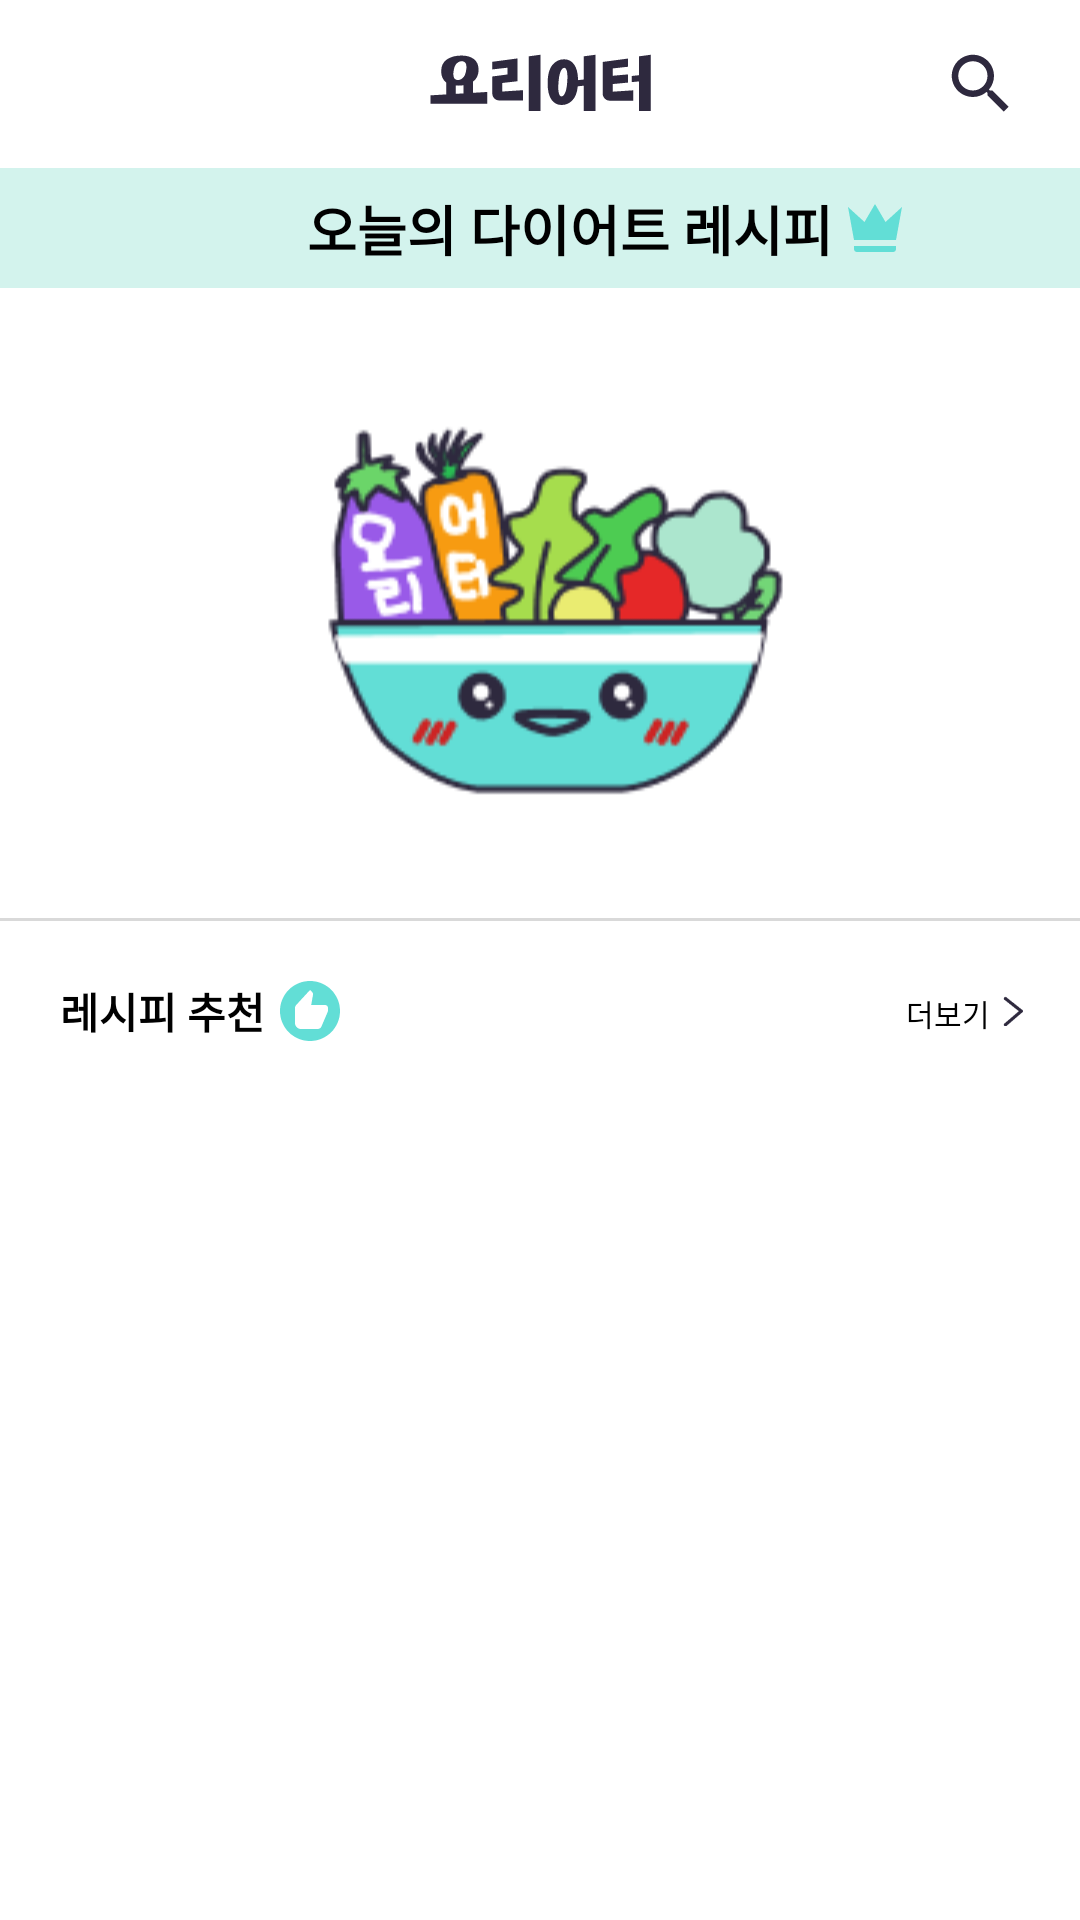

Point at icon controls on the screen. Image size 1080px x 1920px, points as (x=x, y=y).
arrow right: (x=1013, y=1011)
search: (x=980, y=83)
